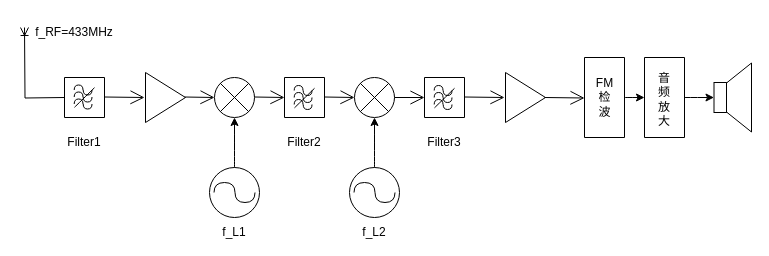
The diagram is 769 pixels wide and 256 high, and some of its shapes have lost their labels. The centre of each missing label's shape, as x and y in pixels:
"AGC" belongs at [525,97].
"LPF" belongs at [165,97].
